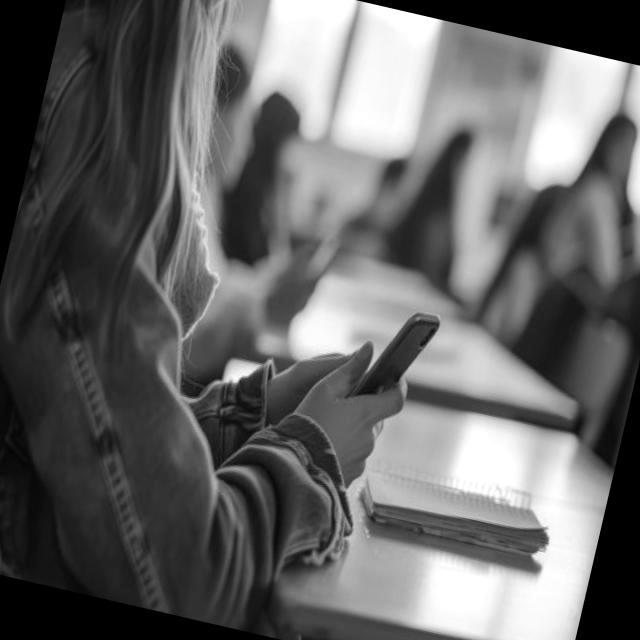phone: (344, 298, 442, 416)
